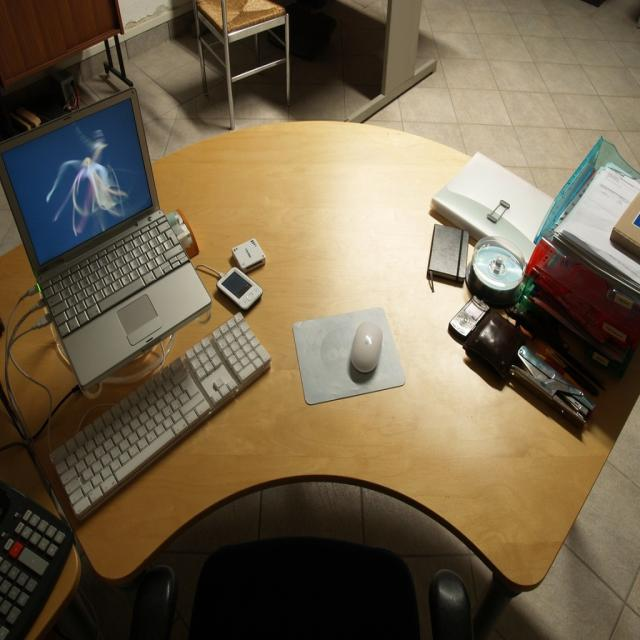Computer-mouse: (347, 322, 384, 368)
